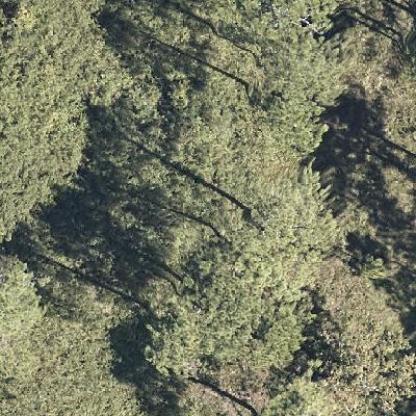tree-top: (0, 0, 116, 249), (0, 246, 155, 415), (319, 247, 414, 415)
